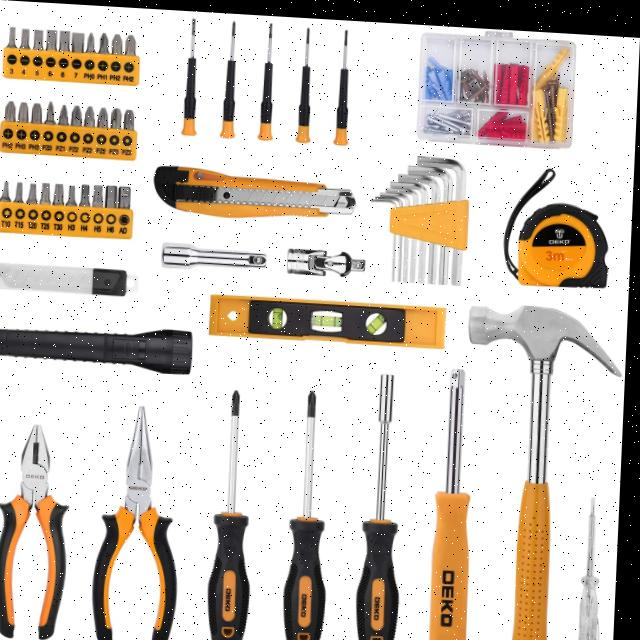Screwdriver: (362, 369, 404, 640), (435, 364, 475, 640), (289, 388, 331, 640), (213, 388, 255, 640), (584, 490, 605, 640), (182, 16, 198, 132), (259, 20, 273, 137), (222, 19, 236, 135), (297, 24, 311, 139), (336, 26, 349, 141)
